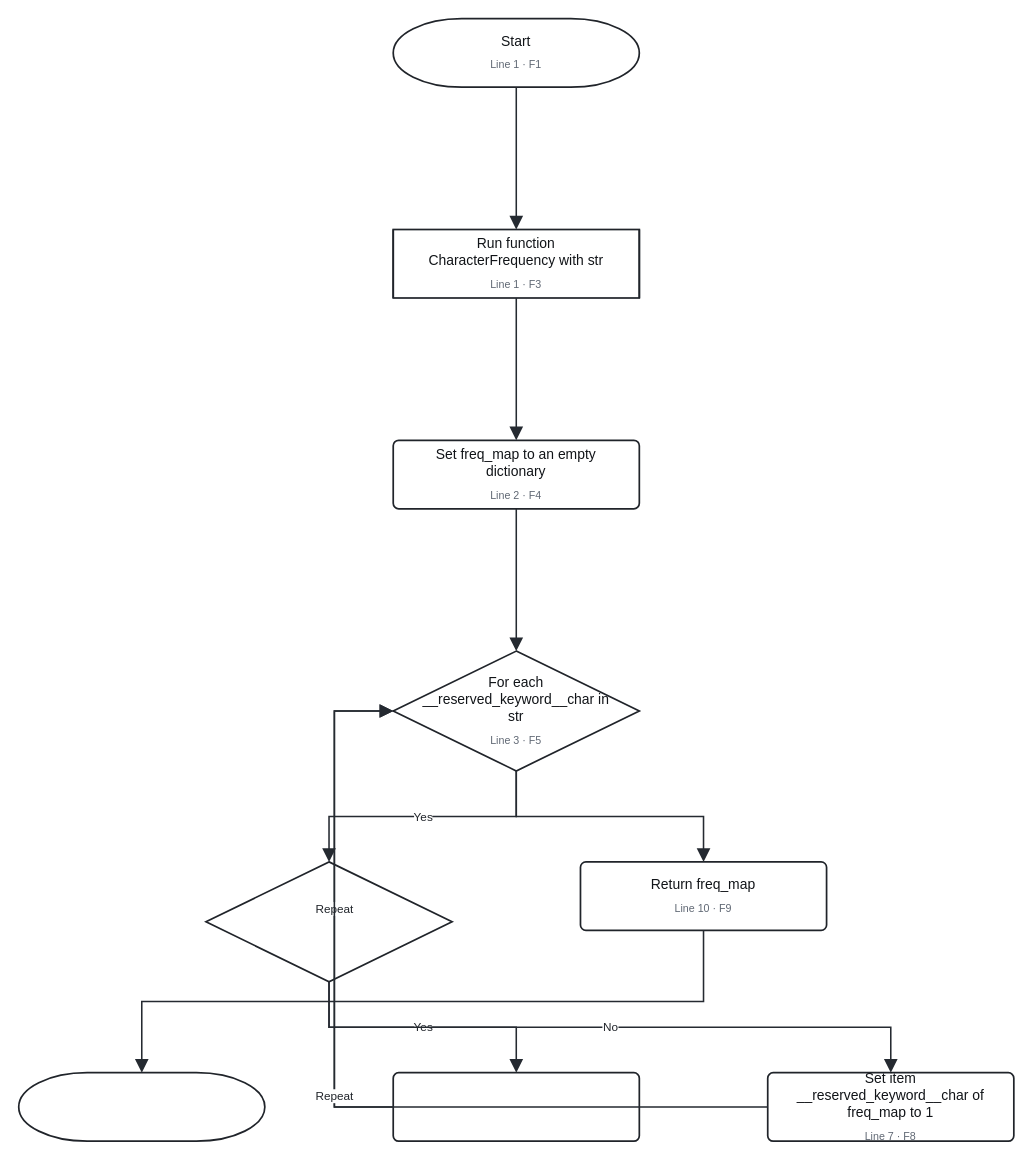
Some shapes in this 1034 by 1163 pixel diagram are drawn without their labels. The centre of each missing label's shape, as x and y in pixels:
"__reserved_keyword__char is contained in freq_map? Line 4 · F6" goes at (x=328, y=921).
"End Line 1 · F2" goes at (x=141, y=1106).
"Set item __reserved_keyword__char of freq_map to item Line 5 · F7" goes at (x=516, y=1106).
